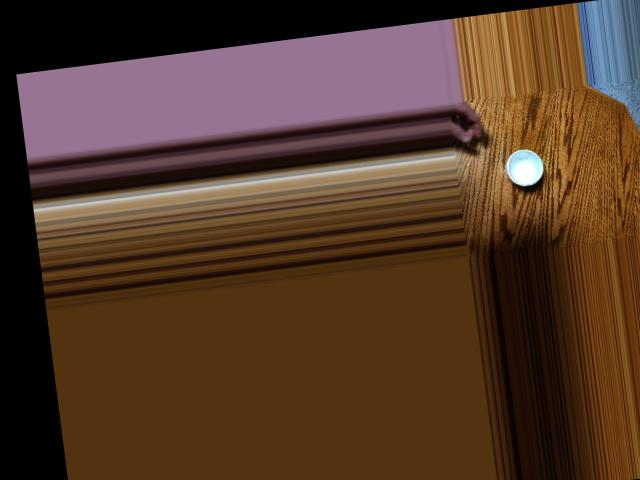cotage: (496, 143, 548, 189)
